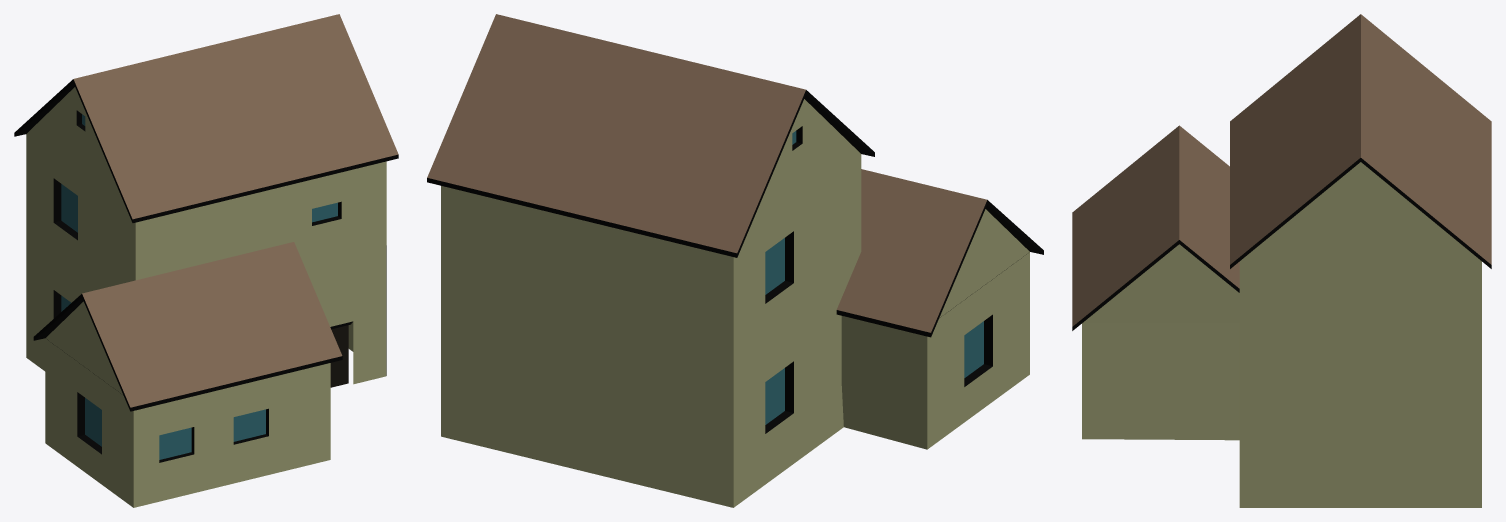
Rendered from Dubbelt_Ljust_hus.fbx.
3 views of the same model, side by side, from view 1: azimuth 30°, elevation 25°; view 2: azimuth 150°, elevation 25°; view 3: azimuth 270°, elevation 25° (orthographic). The views are drawn at different scales.
Parts seen in each view (by area): view 1: Plane.002; view 2: Plane.002; view 3: Plane.002.
Boxes of the visible parts, x1,y1,x2,y2 form: Plane.002: (14, 14, 398, 507); Plane.002: (427, 14, 1043, 507); Plane.002: (1072, 14, 1491, 507).
Size of the model in its own units: 12.37 by 11.17 by 11.97.
